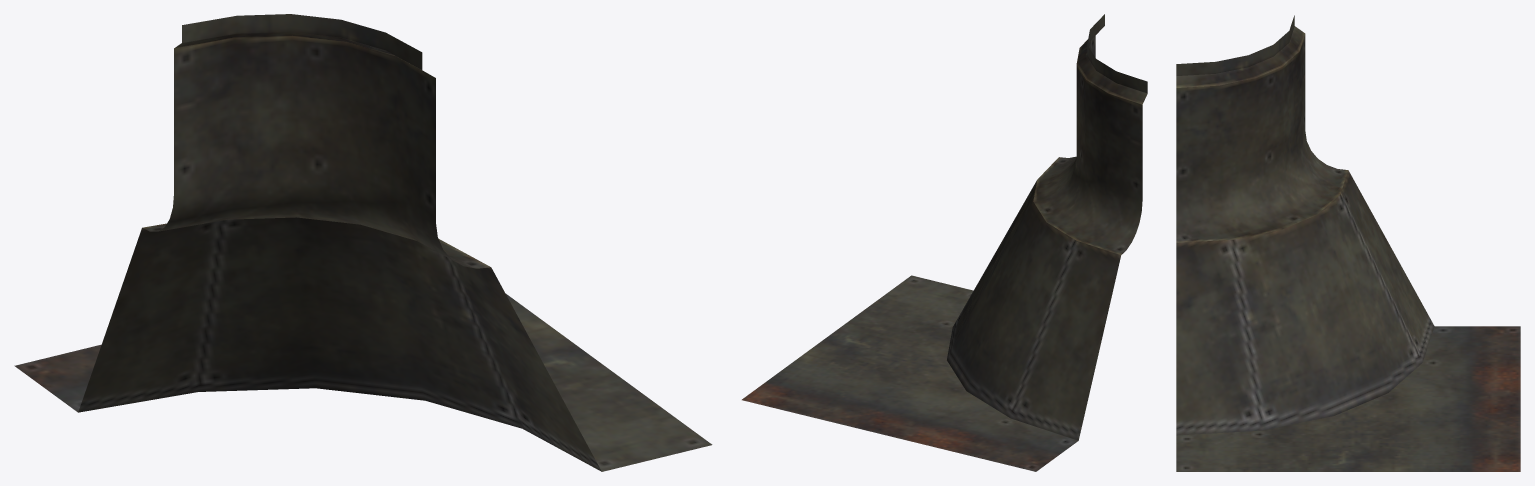
File: pplant_ground_top01_corner.dae
3 views of the same model, side by side, from view 1: azimuth 30°, elevation 25°; view 2: azimuth 150°, elevation 25°; view 3: azimuth 270°, elevation 25° (orthographic). The views are drawn at different scales.
Parts seen in each view (by area): view 1: ground_top01_corner; view 2: ground_top01_corner; view 3: ground_top01_corner.
Boxes of the visible parts, x1,y1,x2,y2 form: ground_top01_corner: (14, 14, 712, 471); ground_top01_corner: (742, 14, 1147, 471); ground_top01_corner: (1176, 15, 1520, 471).
Bounding box in the file's own units: 2 × 2 × 2.
